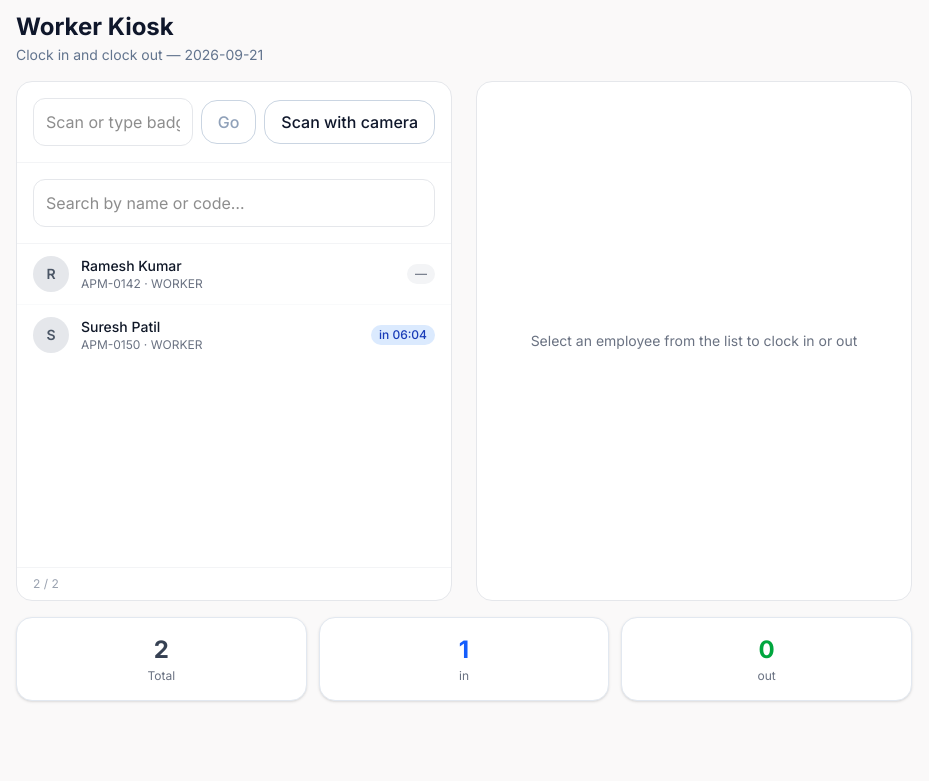
Test: punching › after a punch the person shows as in, and the SAME direction is not offered again (K7)
This screenshot has width=929, height=781.
Click the button "R Ramesh Kumar APM-0142 · WORKER —".
click(51, 274)  # box [17,244,451,305]
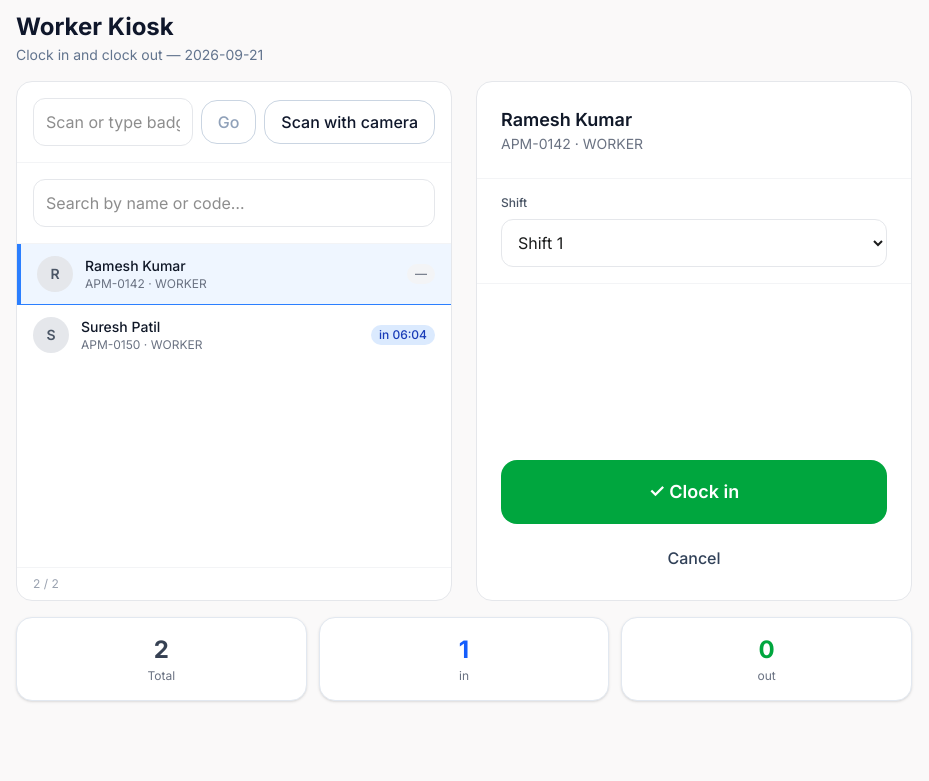
Click the button "✓ Clock in".
click(694, 492)  # box [501,460,887,524]
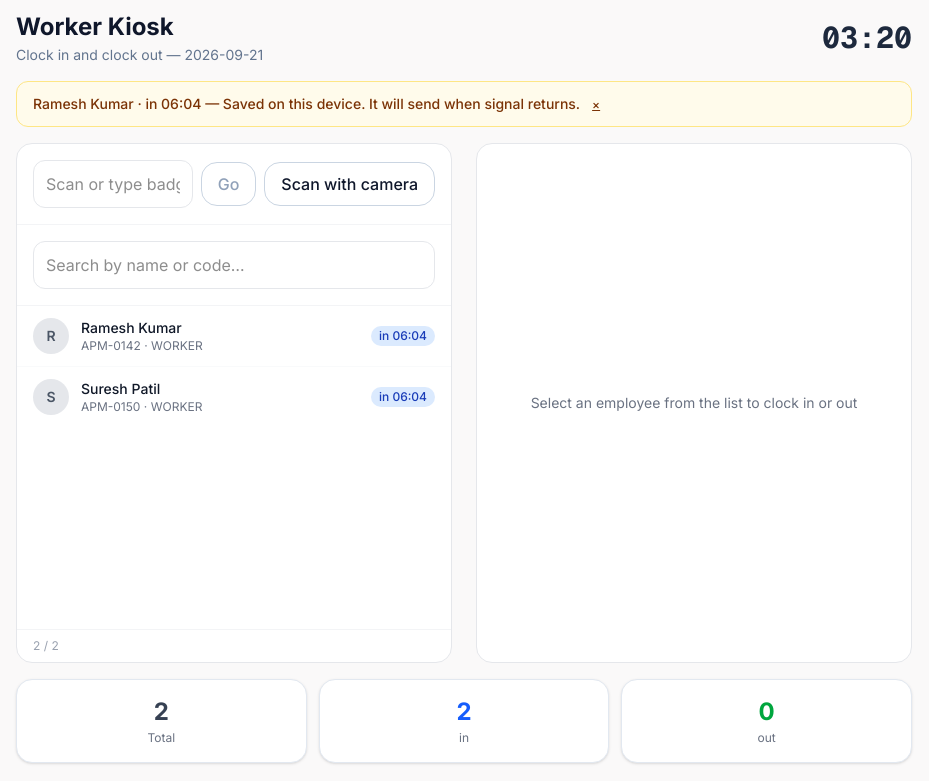
Expected: the 1st text "in 06:04" is shown, [371,326,435,346]
Click the button "Ramesh Kumar".
click(51, 336)  # box [17,306,451,367]
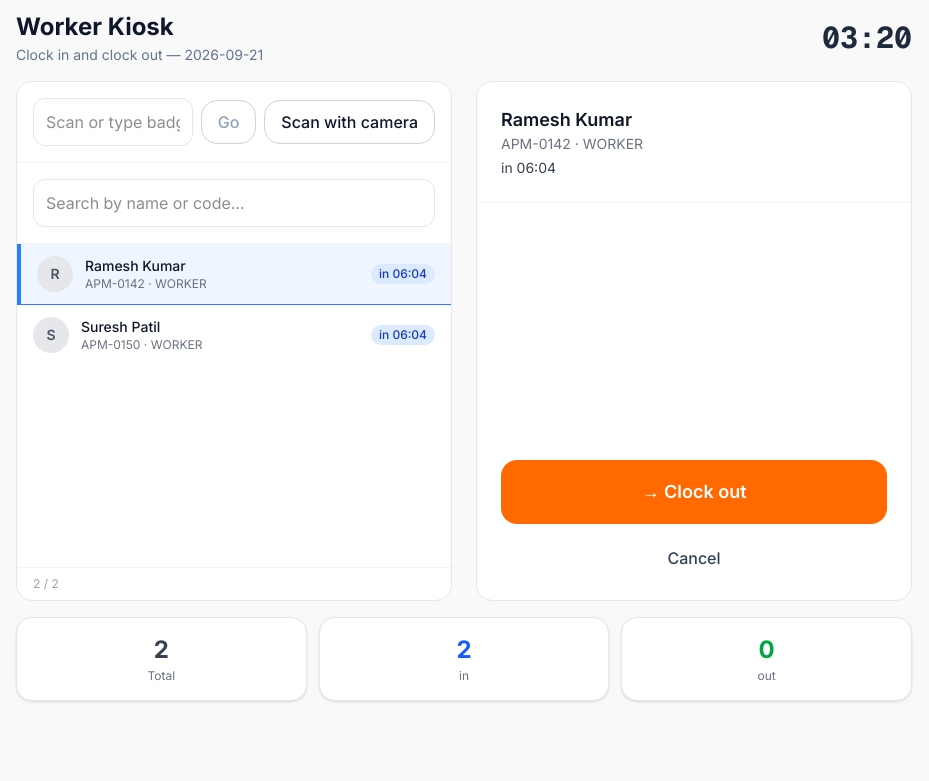
Expected: the button "→ Clock out" is shown, [501,460,887,524]
